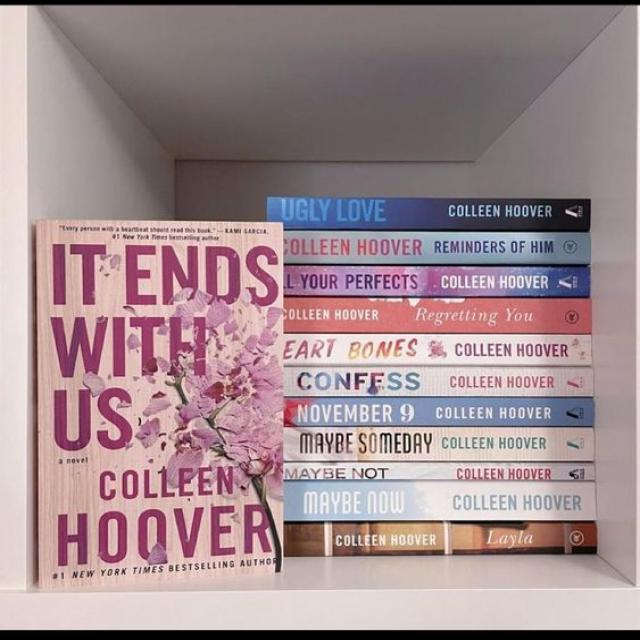book: (284, 482, 600, 520), (267, 196, 590, 231), (284, 427, 593, 463), (285, 298, 590, 332), (286, 230, 589, 264), (284, 525, 598, 557), (284, 397, 593, 428), (286, 366, 592, 397), (284, 334, 590, 365), (285, 266, 589, 297), (282, 462, 598, 476)
